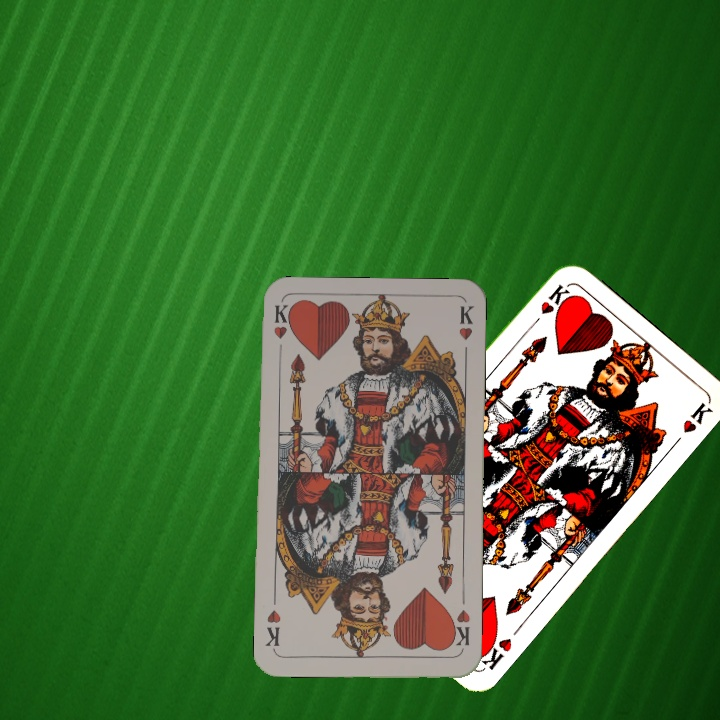HK: (526, 280, 573, 331), (472, 629, 515, 673), (269, 301, 292, 360), (446, 606, 473, 653)
